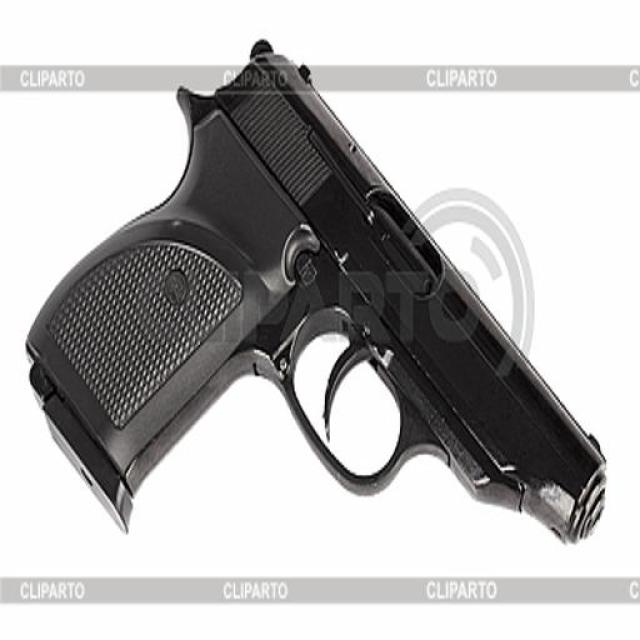pistol: (17, 38, 595, 566)
